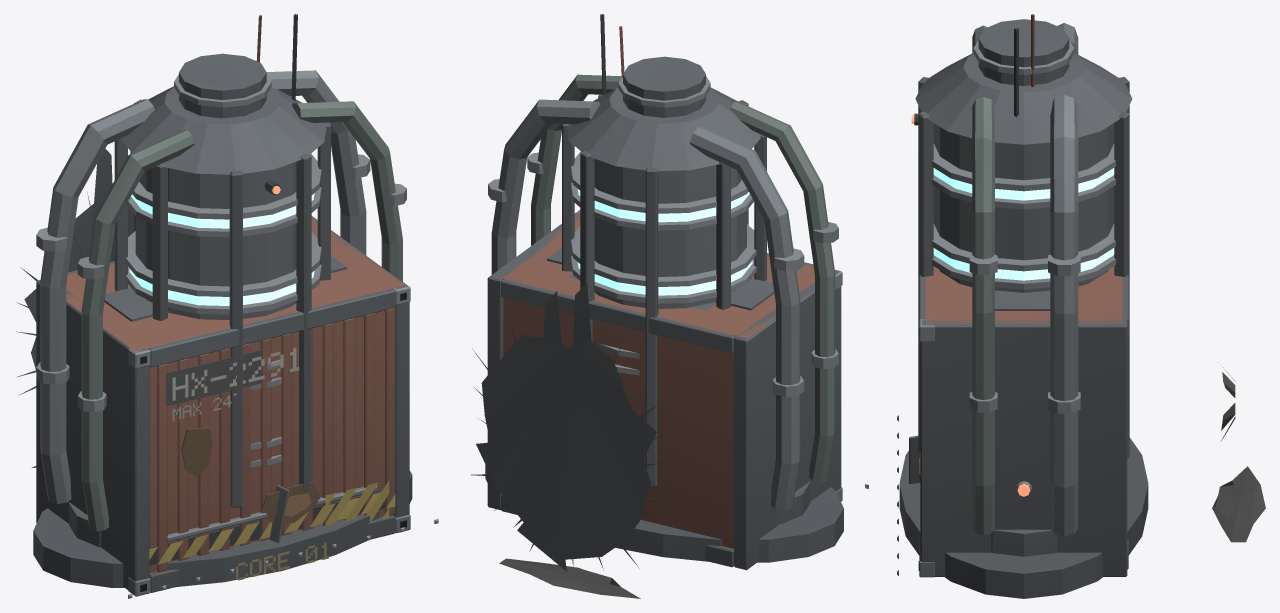
Rendered from props.glb.
3 renders of one model, left to right at view 1: azimuth 30°, elevation 25°; view 2: azimuth 150°, elevation 25°; view 3: azimuth 270°, elevation 25°, orthographic. The views are drawn at different scales.
Visible parts, largest first — view 1: reactor, bigcrate, scorch, shelf, table, beam, console_broken; view 2: reactor, bigcrate, scorch, shelf, beam; view 3: reactor, bigcrate, scorch, shelf, beam, console_broken.
Boxes of the visible parts, left/top/right/bottom form: reactor: left=33, top=53, right=438, bottom=598; bigcrate: left=36, top=216, right=410, bottom=596; scorch: left=16, top=149, right=133, bottom=467; shelf: left=104, top=255, right=346, bottom=321; table: left=166, top=485, right=377, bottom=541; beam: left=256, top=14, right=297, bottom=100; console_broken: left=269, top=485, right=289, bottom=542; reactor: left=485, top=56, right=868, bottom=562; bigcrate: left=487, top=210, right=842, bottom=570; scorch: left=471, top=283, right=665, bottom=598; shelf: left=547, top=248, right=774, bottom=310; beam: left=600, top=14, right=624, bottom=95; reactor: left=897, top=19, right=1148, bottom=598; bigcrate: left=918, top=266, right=1128, bottom=577; scorch: left=1212, top=367, right=1265, bottom=542; shelf: left=995, top=290, right=1050, bottom=310; beam: left=1014, top=14, right=1034, bottom=117; console_broken: left=909, top=435, right=920, bottom=483.
Size of the model in its own units: 3.4 by 4.51 by 2.92.
